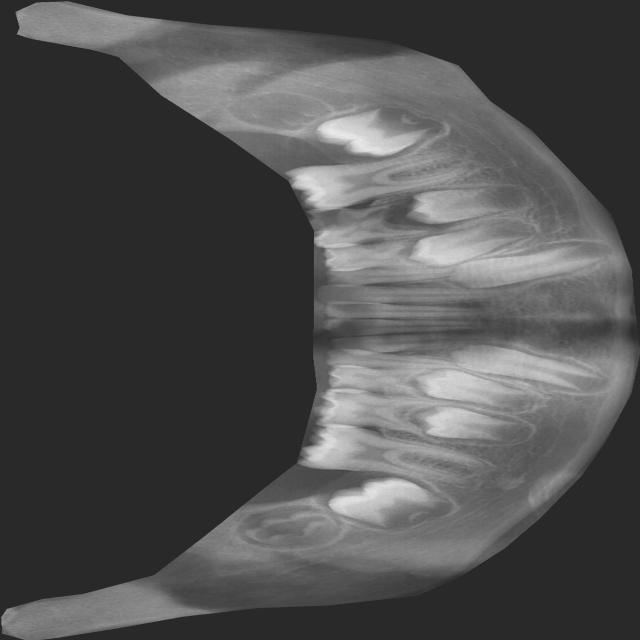mandibula: (1, 0, 640, 640)
